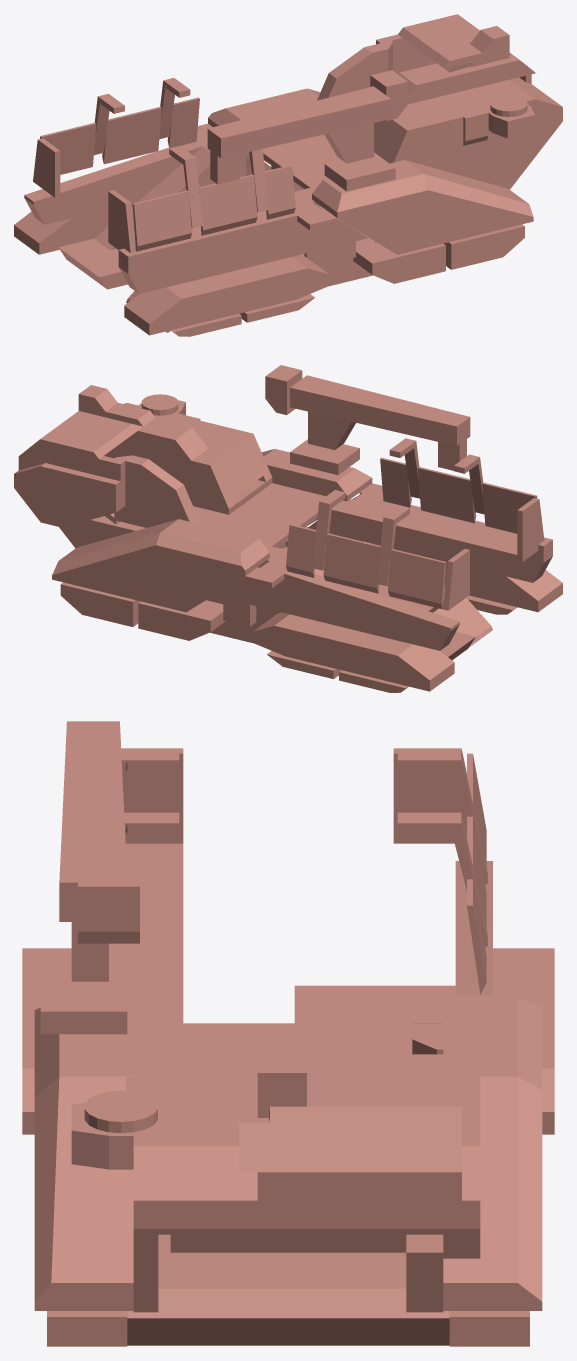
File: behemoth_physics.fbx
The picture shows the model from 3 angles, top to bottom: view 1: azimuth 30°, elevation 25°; view 2: azimuth 150°, elevation 25°; view 3: azimuth 270°, elevation 25°; orthographic projection. The views are drawn at different scales.
Visible parts, largest first — view 1: right_fender, back_wall.001, rear_fender, engine, crane_box, back_wall_left, engine01, cab_end, tread_back.001, rear_fender_left, def_shield17, second (+35 smaller); view 2: right_fender_left, back_wall_left, rear_fender_left, crane_box, back_wall.001, outer_cab, 2nd_floor01, hall_wall, second, roof, def_shield15, rear_fender (+41 smaller); view 3: floor, right_fender_left, right_fender, engine01, roof, crane_box, 2nd_floor01, front_cab, windshield, engine, cab_end, crane_base (+31 smaller).
Part boxes in pixels (x1,y1,x2,y2): right_fender: [312, 160, 533, 254]; back_wall.001: [118, 202, 367, 293]; rear_fender: [124, 255, 329, 335]; engine: [386, 95, 562, 189]; crane_box: [207, 86, 390, 158]; back_wall_left: [24, 136, 271, 224]; engine01: [374, 77, 555, 160]; cab_end: [398, 54, 535, 104]; tread_back.001: [353, 242, 445, 283]; rear_fender_left: [14, 202, 135, 254]; def_shield17: [102, 107, 161, 164]; second: [263, 134, 340, 188]; right_fender_left: [52, 519, 269, 612]; back_wall_left: [215, 561, 459, 650]; rear_fender_left: [253, 612, 454, 691]; crane_box: [290, 375, 470, 445]; back_wall.001: [307, 493, 552, 582]; outer_cab: [14, 463, 120, 527]; 2nd_floor01: [260, 483, 538, 561]; hall_wall: [114, 455, 183, 527]; second: [212, 492, 318, 547]; roof: [35, 411, 149, 458]; def_shield15: [388, 549, 446, 609]; rear_fender: [377, 545, 562, 612]; floor: [127, 1234, 449, 1345]; right_fender_left: [443, 998, 542, 1310]; right_fender: [34, 998, 133, 1310]; engine01: [158, 1023, 282, 1234]; roof: [268, 1054, 461, 1122]; crane_box: [59, 721, 126, 921]; 2nd_floor01: [121, 843, 183, 1023]; front_cab: [257, 1195, 443, 1234]; windshield: [307, 1123, 443, 1172]; engine: [133, 1023, 158, 1312]; cab_end: [239, 1023, 306, 1172]; crane_base: [40, 964, 127, 1034].
Bounding box in the file's own units: 430 × 820 × 359.
